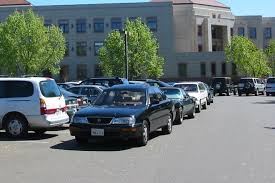car: (72, 85, 174, 142), (1, 76, 69, 137), (237, 77, 265, 96)
